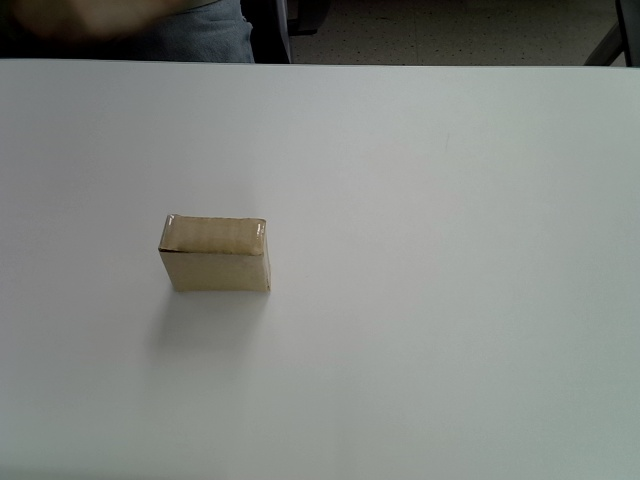normal: (158, 214, 273, 293)
